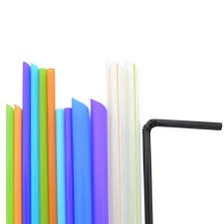drinking_straw: (135, 112, 223, 224), (87, 95, 110, 224)
